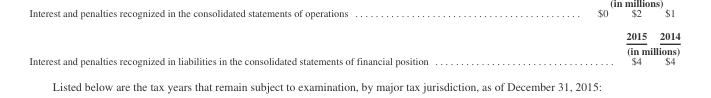table: (28, 29, 679, 66)
table column: (28, 29, 526, 66), (526, 29, 652, 66), (652, 29, 679, 66)
table column header: (28, 29, 679, 55)
table row: (28, 29, 679, 42), (28, 42, 679, 55), (28, 55, 679, 66)
table spanning cell: (526, 42, 679, 55)
